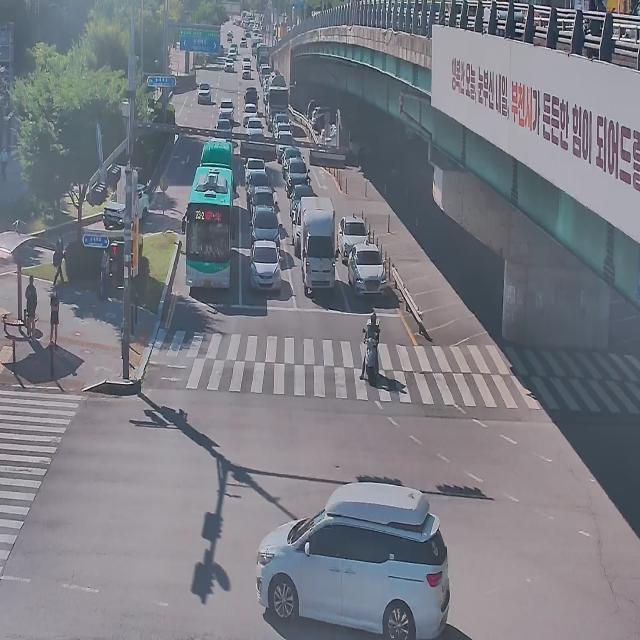Bus: (186, 162, 234, 298), (196, 135, 232, 176)
Car: (255, 477, 450, 639), (102, 174, 150, 228), (347, 242, 387, 295), (335, 207, 371, 256), (250, 238, 282, 292), (250, 206, 285, 246), (286, 157, 309, 192), (292, 201, 304, 258), (276, 131, 294, 166), (217, 95, 238, 124), (251, 190, 277, 212), (290, 185, 316, 207), (244, 116, 266, 142), (281, 145, 302, 172), (212, 116, 234, 140), (196, 78, 212, 108), (248, 175, 272, 193), (271, 109, 287, 136), (240, 104, 258, 126), (246, 160, 267, 178), (243, 86, 259, 109), (276, 124, 293, 142), (222, 57, 234, 73), (261, 66, 270, 84), (241, 64, 251, 80), (258, 63, 270, 74), (241, 56, 250, 68), (228, 48, 236, 59)
Truck: (299, 196, 339, 296), (360, 309, 381, 385), (267, 74, 289, 123), (256, 47, 270, 69)
